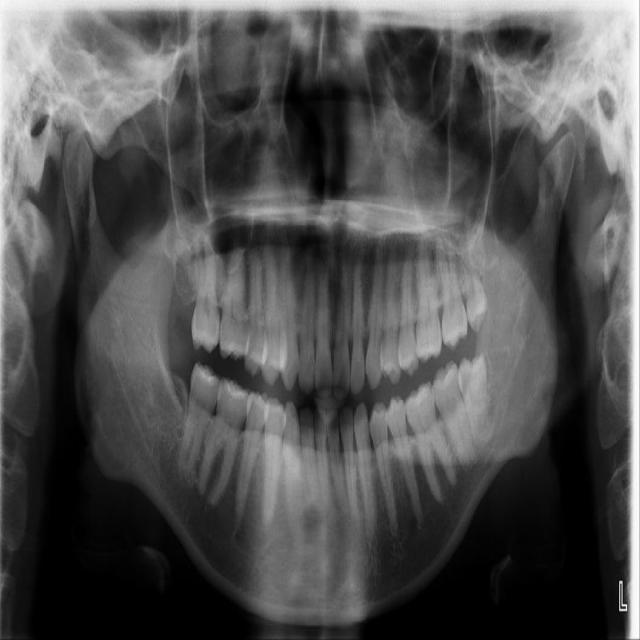impacted tooth: (456, 356, 492, 447)
